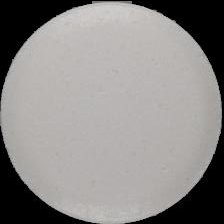43063-692: (0, 0, 224, 224)
